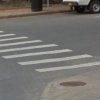Crosswalk: (2, 27, 95, 79)
